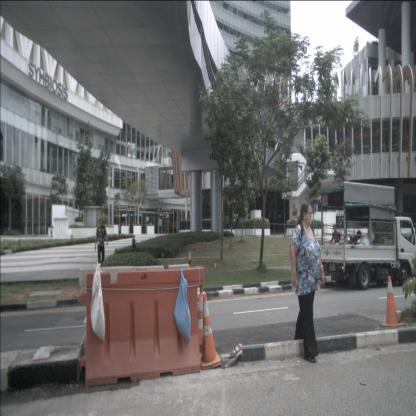cone: (78, 267, 205, 386), (200, 294, 222, 370), (192, 288, 210, 353), (382, 275, 403, 327)
